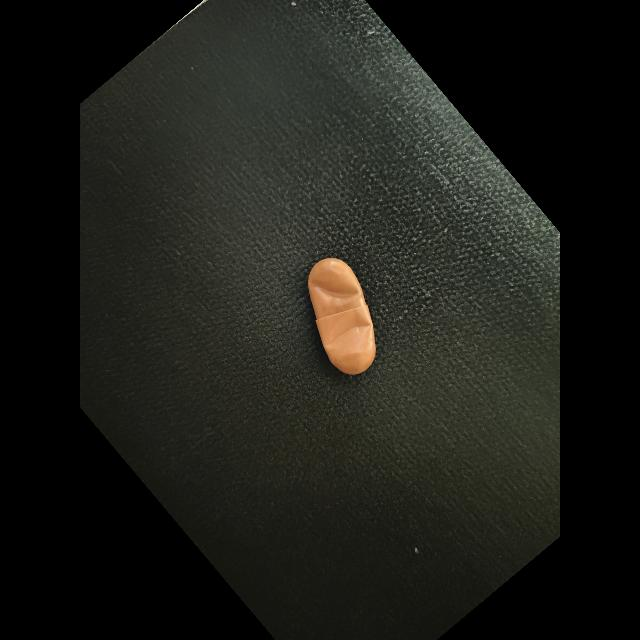Defective Capsule: (323, 309, 374, 356), (311, 279, 360, 302)
